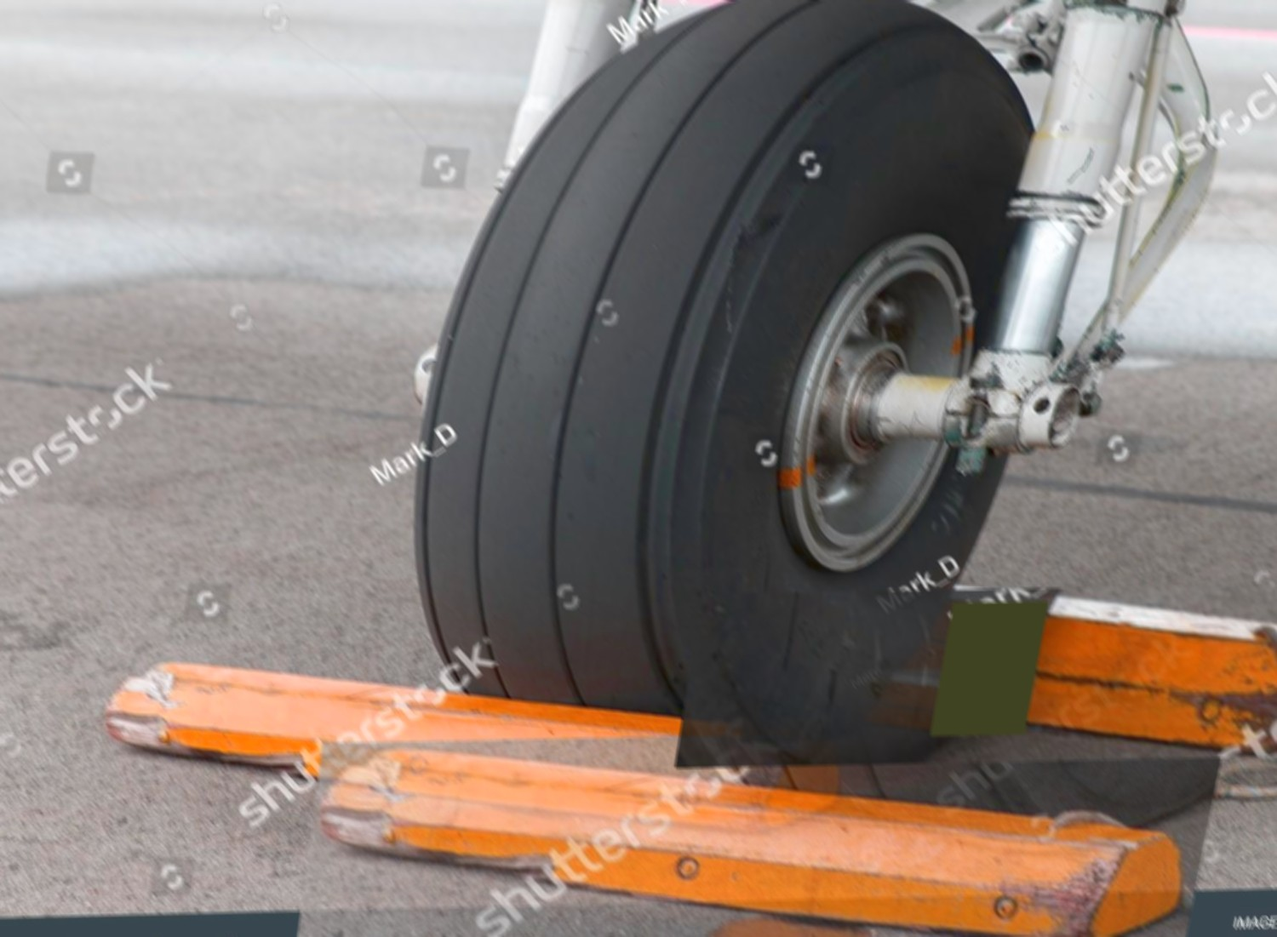chock: (293, 726, 1227, 937), (85, 645, 875, 846), (674, 582, 1277, 768), (677, 576, 1221, 711), (739, 667, 1040, 742)
wheel: (376, 0, 1062, 744)
